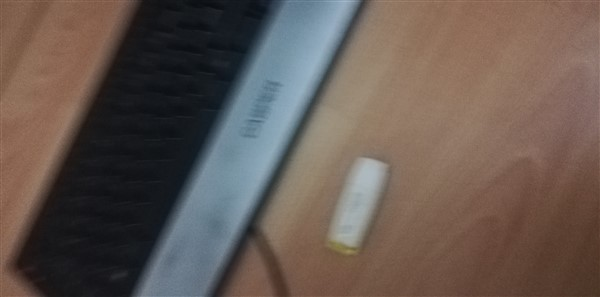flash disk: (322, 154, 392, 258)
klavye: (26, 1, 328, 297)
